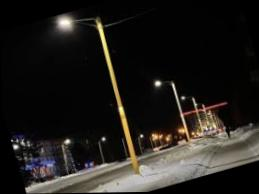Animal: (54, 0, 168, 187), (150, 70, 195, 150), (174, 88, 209, 139)
